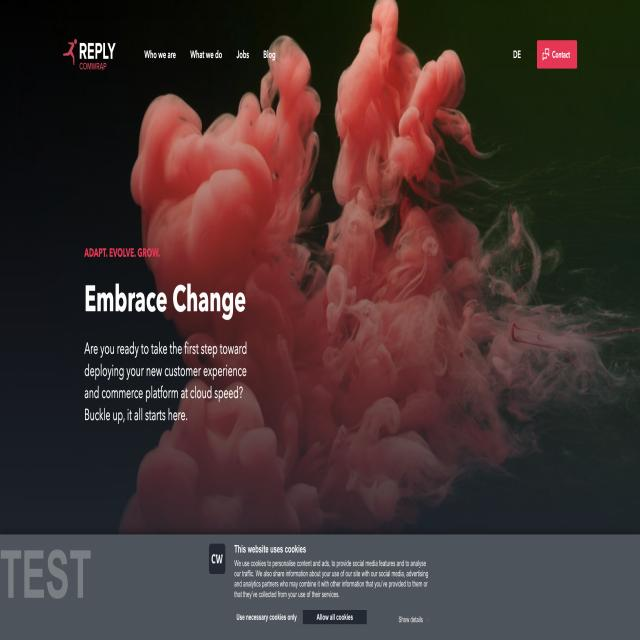Logo: (61, 26, 128, 88)
Navigation: (137, 38, 290, 76)
